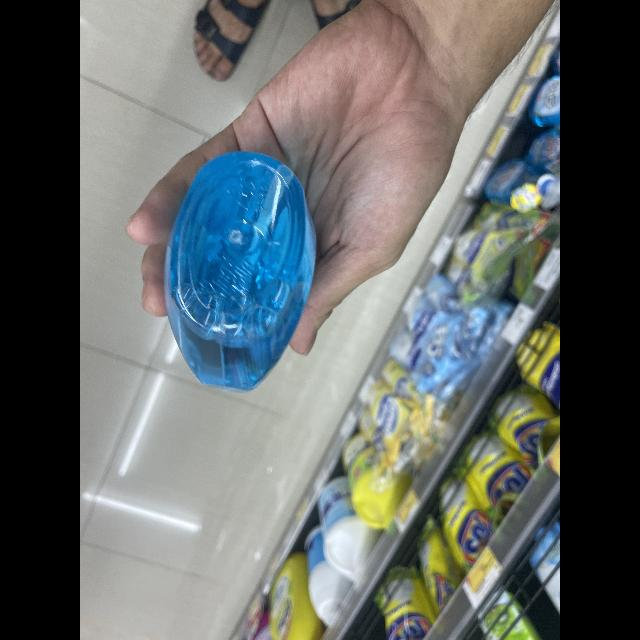chemical_plastic_bottle: (152, 145, 324, 399)
